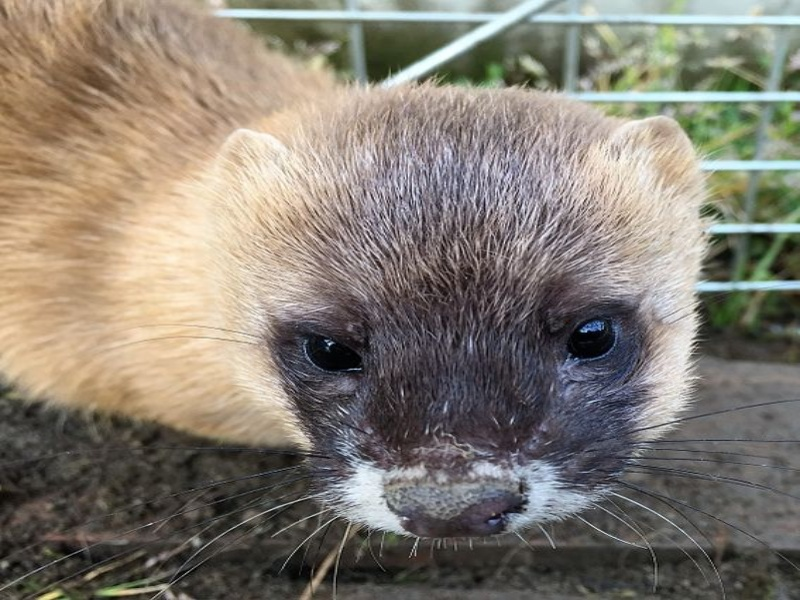minkish: (11, 1, 711, 562)
